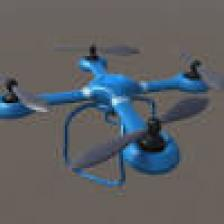drone: (0, 34, 224, 196)
